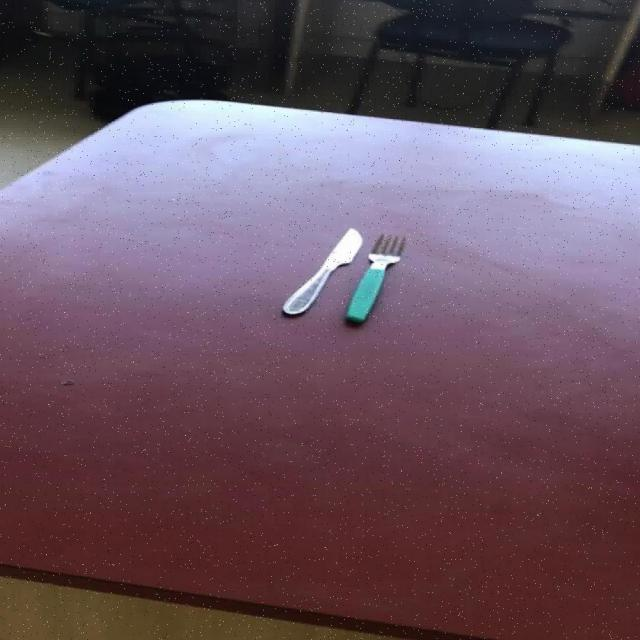Fork: (347, 233, 409, 323)
Knife: (282, 227, 365, 315)
